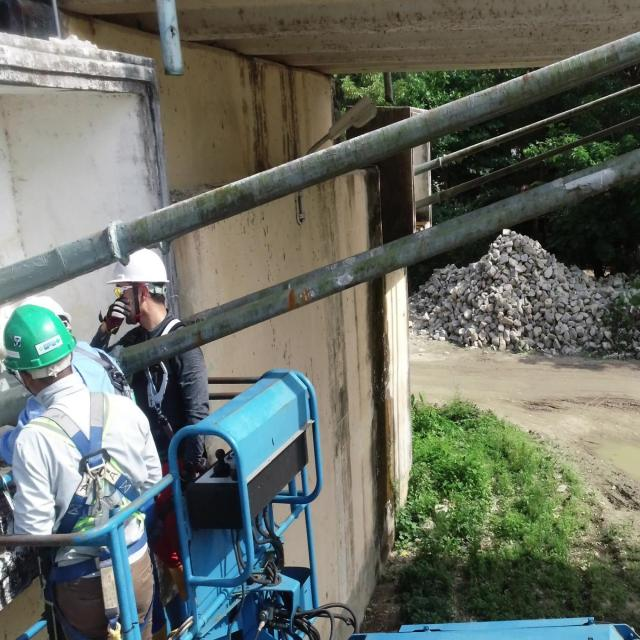corrosion: (288, 289, 296, 310), (301, 288, 311, 304), (195, 331, 203, 345), (522, 74, 531, 86)
crack: (419, 237, 424, 255), (382, 129, 386, 142), (468, 96, 472, 107), (452, 103, 456, 114), (424, 113, 428, 123), (462, 98, 465, 110), (235, 182, 238, 192), (446, 106, 449, 115)
